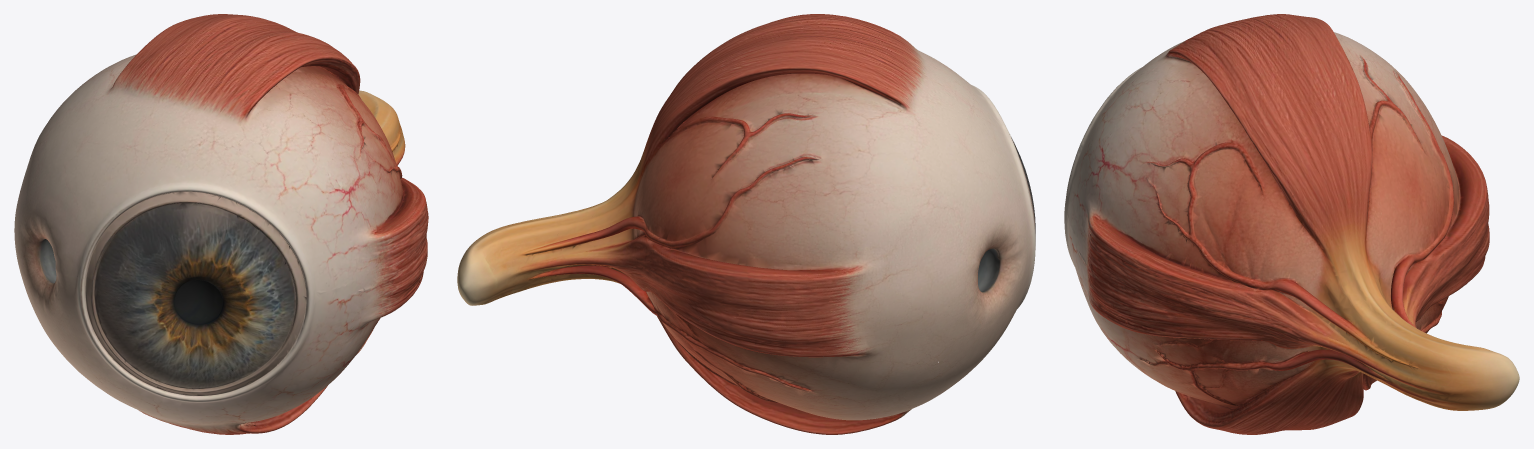
File: eyeball.glb
The picture shows the model from 3 angles, left to right: view 1: azimuth 30°, elevation 25°; view 2: azimuth 150°, elevation 25°; view 3: azimuth 270°, elevation 25°; orthographic projection.
Parts seen in each view (by area): view 1: tripo_node_ebf243bf-d3b6-4331-9960-3b03130a2b84; view 2: tripo_node_ebf243bf-d3b6-4331-9960-3b03130a2b84; view 3: tripo_node_ebf243bf-d3b6-4331-9960-3b03130a2b84.
Part boxes in pixels (x1=…): tripo_node_ebf243bf-d3b6-4331-9960-3b03130a2b84: x1=14, y1=14, x2=428, y2=434; tripo_node_ebf243bf-d3b6-4331-9960-3b03130a2b84: x1=457, y1=14, x2=1035, y2=434; tripo_node_ebf243bf-d3b6-4331-9960-3b03130a2b84: x1=1064, y1=14, x2=1519, y2=434.
Bounding box in the file's own units: 0.9792 × 0.8043 × 0.8527.
1 material, 1 textured.
